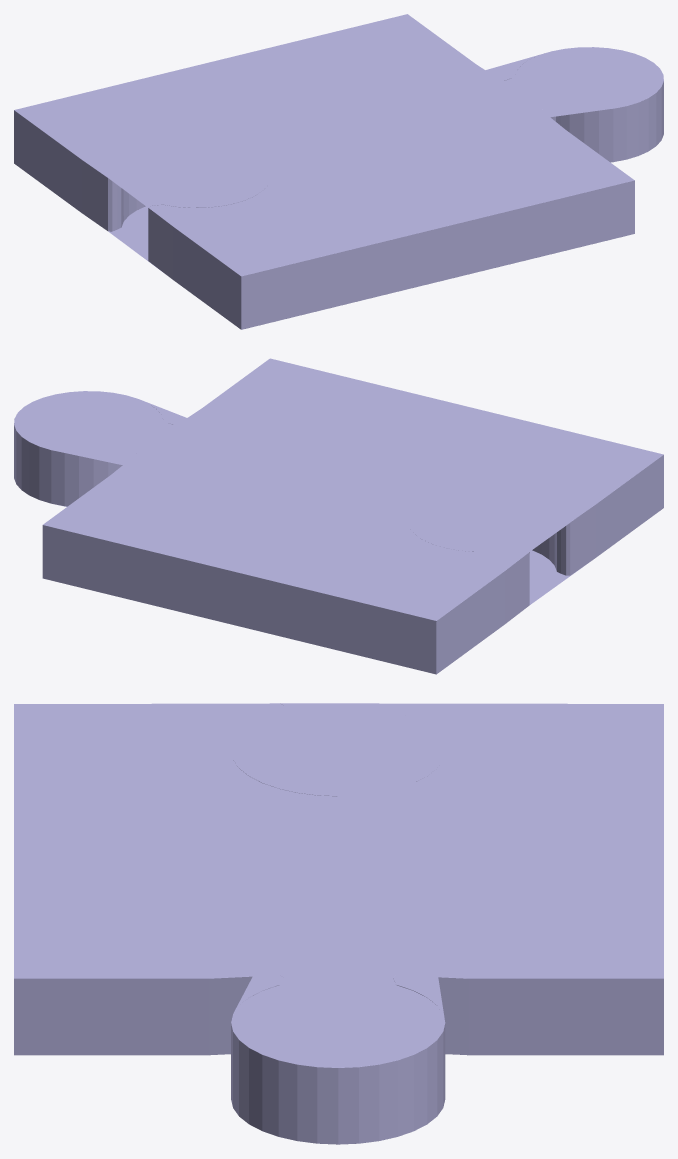
File: block_3.fbx
The picture shows the model from 3 angles, top to bottom: view 1: azimuth 30°, elevation 25°; view 2: azimuth 150°, elevation 25°; view 3: azimuth 270°, elevation 25°; orthographic projection. The views are drawn at different scales.
Parts seen in each view (by area): view 1: Plane.003; view 2: Plane.003; view 3: Plane.003.
Part boxes in pixels (x1=…): Plane.003: x1=14, y1=14, x2=663, y2=329; Plane.003: x1=14, y1=358, x2=663, y2=674; Plane.003: x1=14, y1=703, x2=663, y2=1144.
Bounding box in the file's own units: 134 × 13.53 × 100.
